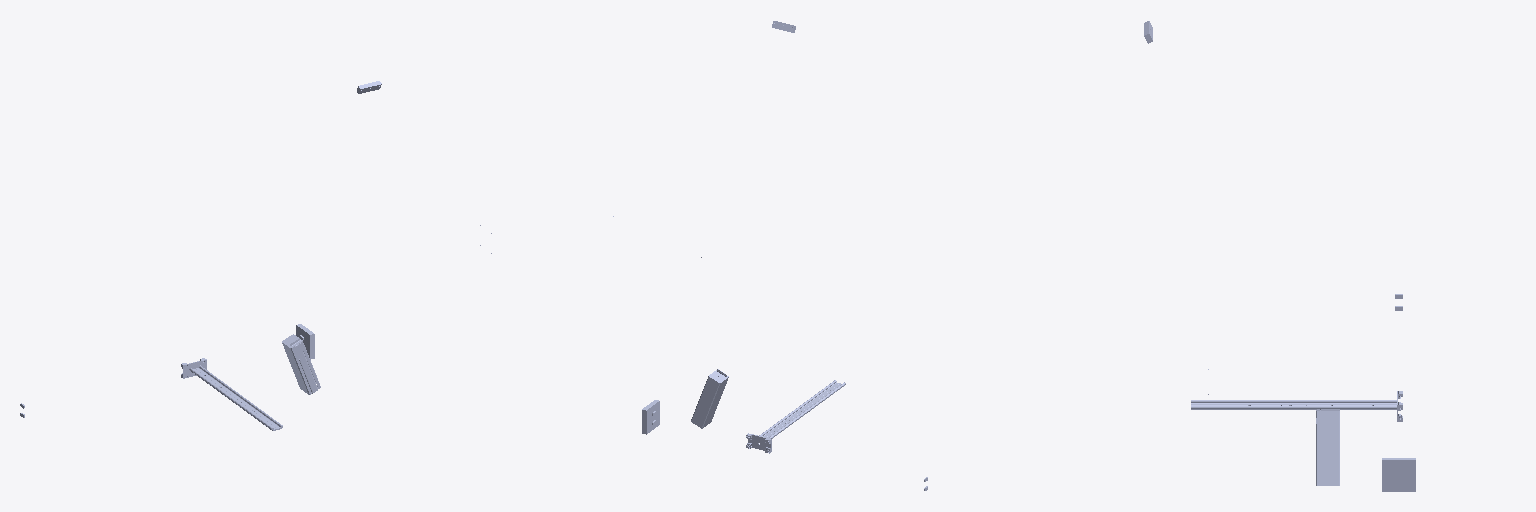
--- Render facts (derived) ---
The picture shows the robot from 3 angles, left to right: view 1: azimuth 30°, elevation 25°; view 2: azimuth 150°, elevation 25°; view 3: azimuth 270°, elevation 25°; orthographic projection.
Model robo_description with 21 links and 20 joints (2 revolute, 2 prismatic, 16 fixed), rooted at base_link, posed joints at zero except 1 at the middle of their limits (joint5 = 0.4665).
Links seen in each view (by area): view 1: link2, link5; view 2: link2, link5, base_link; view 3: link2, link5, base_link.
Boxes of the visible links, x1,y1,x2,y2 form: link2: (181, 358, 282, 430); link5: (282, 334, 320, 394); link2: (746, 380, 845, 453); link5: (691, 369, 728, 428); base_link: (642, 400, 927, 490); link2: (1191, 391, 1402, 421); link5: (1316, 409, 1339, 485); base_link: (1382, 294, 1415, 491).
Bounding box of the posed robot: 1.65 × 0.7954 × 1.46 m (x, y, z).
Meshes: 6 distinct files referenced, 4 mesh visuals loaded (4 binary STL); not drawn: 2 (reference not matched to a file when rendering).

The robot description file, URDF, robot "robo_description":
<?xml version="1.0" encoding="utf-8"?>
<!-- 25AUG2023 Changed the minimum limit of lJoint5 to 0.247 and max to 0.686 -->
<!-- This URDF was automatically created by SolidWorks to URDF Exporter! Originally created by Stephen Brawner ([email redacted]) 
     Commit Version: 1.6.0-4-g7f85cfe  Build Version: 1.6.7995.38578
     For more information, please see http://wiki.ros.org/sw_urdf_exporter -->
<robot
  name="robo_description">
  <link
    name="base_link">
    <inertial>
      <origin
        xyz="-5.13826234849775E-17 -1.63904738952765E-17 0.339473684210526"
        rpy="0 0 0" />
      <mass
        value="19" />
      <inertia
        ixx="2.34956140350877"
        ixy="1.11311423041845E-17"
        ixz="3.69215798456927E-16"
        iyy="2.34956140350877"
        iyz="-7.44985984223617E-17"
        izz="0.151666666666667" />
    </inertial>
    <visual>
      <origin
        xyz="0 0 0"
        rpy="0 0 0" />
      <geometry>
        <mesh
          filename="package://robo_description/meshes/base_link.STL" />
      </geometry>
      <material
        name="">
        <color
          rgba="0.792156862745098 0.819607843137255 0.933333333333333 1" />
      </material>
    </visual>
    <collision>
      <origin
        xyz="0 0 0"
        rpy="0 0 0" />
      <geometry>
        <mesh
          filename="package://robo_description/meshes/base_link.STL" />
      </geometry>
    </collision>
  </link>
  <link
    name="link2">
    <inertial>
      <origin
        xyz="-0.001261 -0.2858 0.14572"
        rpy="0 0 0" />
      <mass
        value="3.13280329013611" />
      <inertia
        ixx="0.0169430024052603"
        ixy="-0.00280446630124331"
        ixz="0.0223183329111622"
        iyy="0.162057682822749"
        iyz="0.000505061238040558"
        izz="0.161640952999751" />
    </inertial>
    <visual>
      <origin
        xyz="0 0 -1"
        rpy="0 0 0" />
      <geometry>
        <mesh
          filename="package://robo_description/meshes/link2.STL" />
      </geometry>
      <material
        name="">
        <color
          rgba="0.792156862745098 0.819607843137255 0.933333333333333 1" />
      </material>
    </visual>
    <collision>
      <origin
        xyz="0 0 0"
        rpy="0 0 0" />
      <geometry>
        <mesh
          filename="package://robo_description/meshes/link2.STL" />
      </geometry>
    </collision>
  </link>
  <joint
    name="joint2"
    type="prismatic">
    <origin
      xyz="0.0 0 1"
      rpy="0 0 0" />
    <parent
      link="base_link" />
    <child
      link="link2" />
    <axis
      xyz="0 0 1" />
    <limit
      lower="0"
      upper="1"
      effort="0"
      velocity="0" />
  </joint>
  <link
    name="link4">
    <inertial>
      <origin
        xyz="-0.000438554587764983 0.0620490502692163 -0.172885898172371"
        rpy="0 0 0" />
      <mass
        value="0.162146723185788" />
      <inertia
        ixx="0.00336616371871891"
        ixy="1.46811284877534E-06"
        ixz="-3.57096843523024E-06"
        iyy="0.00312866852492012"
        iyz="0.00048231220150353"
        izz="0.000338308018448651" />
    </inertial>
    <visual>
      <origin
        xyz="-0.4665 0 -0.790"
        rpy="0 0 0" />
      <geometry>
        <mesh
          filename="package://robo_description/meshes/link4.STL" />
      </geometry>
      <material
        name="">
        <color
          rgba="0.792156862745098 0.819607843137255 0.933333333333333 1" />
      </material>
    </visual>
    <collision>
      <origin
        xyz="0 0 0"
        rpy="0 0 0" />
      <geometry>
        <mesh
          filename="package://robo_description/meshes/link4.STL" />
      </geometry>
    </collision>
  </link>
  <joint
    name="joint4"
    type="revolute">
    <origin
      xyz="0.46904 0 -0.21"
      rpy="0 0 0" />
    <parent
      link="link2" />
    <child
      link="link4" />
    <axis
      xyz="0 0 1" />
    <limit
      lower="-2.9671"
      upper="2.9671"
      effort="0"
      velocity="0" />
  </joint>
  <link
    name="link3">
    <inertial>
      <origin
        xyz="-0.0832189655707039 -0.0894795892974461 -0.00179630042130147"
        rpy="0 0 0" />
      <mass
        value="1.71811977068641" />
      <inertia
        ixx="0.00948440583507882"
        ixy="-0.00159429497921182"
        ixz="0.00308193362516688"
        iyy="0.035537875179704"
        iyz="0.000648421421055908"
        izz="0.0305779645247813" />
    </inertial>
    <visual>
      <origin
        xyz="-0.468545 -0.078 -0.43528"
        rpy="0 0 0" />
      <geometry>
        <mesh
          filename="package://robo_description/meshes/link3.STL" />
      </geometry>
      <material
        name="">
        <color
          rgba="0.792156862745098 0.819607843137255 0.933333333333333 1" />
      </material>
    </visual>
    <collision>
      <origin
        xyz="0 0 0"
        rpy="0 0 0" />
      <geometry>
        <mesh
          filename="package://robo_description/meshes/link3.STL" />
      </geometry>
    </collision>
  </link>
  <joint
    name="joint3"
    type="revolute">
    <origin
      xyz="0.0 0.077824 -0.35472"
      rpy="0 0 0" />
    <parent
      link="link4" />
    <child
      link="link3" />
    <axis
      xyz="0 1 0" />
    <limit
      lower="-1.5708"
      upper="1.5708"
      effort="0"
      velocity="0" />
  </joint>
  <link
    name="yanthra_link">
    <inertial>
      <origin
        xyz="-0.0832189655707036 -0.0114795892974462 -0.00179630042130124"
        rpy="0 0 0" />
      <mass
        value="1.71811977068641" />
      <inertia
        ixx="0.00948440583507882"
        ixy="-0.00159429497921182"
        ixz="0.0030819336251669"
        iyy="0.035537875179704"
        iyz="0.000648421421055907"
        izz="0.0305779645247813" />
    </inertial>
    <visual>
      <origin
        xyz="0 0 0"
        rpy="0 0 0" />
      <geometry>
        <box size="0.001 0.001 0.001"/>
      </geometry>
      <material
        name="">
        <color
          rgba="0.792156862745098 0.819607843137255 0.933333333333333 1" />
      </material>
    </visual>
    <collision>
      <origin
        xyz="0 0 0"
        rpy="0 0 0" />
      <geometry>
        <box size="0.001 0.001 0.001"/>
      </geometry>
    </collision>
  </link>
  <joint
    name="yanthra_joint"
    type="fixed">
    <origin
      xyz="0 -0.078 0"
      rpy="0 0 0" />
    <parent
      link="link3" />
    <child
      link="yanthra_link" />
    <axis
      xyz="0 0 0" />
  </joint>
  <link
    name="link5_origin">
    <inertial>
      <origin
        xyz="-0.00874999999999998 0.0375 -0.00507843424240889"
        rpy="0 0 0" />
      <mass
        value="0.0438088883035136" />
      <inertia
        ixx="3.24913884800222E-05"
        ixy="1.33063310958086E-21"
        ixz="-8.470329472543E-22"
        iyy="3.99574478810853E-06"
        iyz="-3.38875204913906E-21"
        izz="3.07317223657389E-05" />
    </inertial>
    <visual>
      <origin
        xyz="0 0 0"
        rpy="0 0 0" />
      <geometry>
        <box size="0.001 0.001 0.001"/>
      </geometry>
      <material
        name="">
        <color
          rgba="0.792156862745098 0.819607843137255 0.933333333333333 1" />
      </material>
    </visual>
    <collision>
      <origin
        xyz="0 0 0"
        rpy="0 0 0" />
      <geometry>
        <box size="0.001 0.001 0.001"/>
      </geometry>
    </collision>
  </link>
  <joint
    name="link5_origin_joint"
    type="fixed">
    <origin
      xyz="0 0 0.0"
      rpy="0 0 0" />
    <parent	
      link="yanthra_link" />
    <child
      link="link5_origin" />
    <axis
      xyz="0 0 0" />
  </joint>
  <link
    name="link5">
    <inertial>
      <origin
        xyz="0.108132413871145 2.08242781028485E-06 0.00569147154470495"
        rpy="0 0 0" />
      <mass
        value="0.277404400359573" />
      <inertia
        ixx="0.00021628976171093"
        ixy="1.27900715148446E-06"
        ixz="-0.000135093187106687"
        iyy="0.00359200319167061"
        iyz="-8.36237914028336E-08"
        izz="0.00358633509004247" />
    </inertial>
    <visual>
      <origin
        xyz="-0.715545 0 -0.43528"
        rpy="0 0 0" />
      <geometry>
        <mesh
          filename="package://robo_description/meshes/link5.STL" />
      </geometry>
      <material
        name="">
        <color
          rgba="0.792156862745098 0.819607843137255 0.933333333333333 1" />
      </material>
    </visual>
    <collision>
      <origin
        xyz="0 0 0"
        rpy="0 0 0" />
      <geometry>
        <mesh
          filename="package://robo_description/meshes/link5.STL" />
      </geometry>
    </collision>
  </link>
  <joint
    name="joint5"
    type="prismatic">
    <origin
      xyz="0.0 0 0"
      rpy="0 0 0" />
    <parent
      link="link5_origin" />
    <child
      link="link5" />
    <axis
      xyz="1 0 0" />
    <limit
      lower="0.247"
      upper="0.686"
      effort="0"
      velocity="0" />
  </joint>
  <link
    name="ee_link">
    <inertial>
      <origin
        xyz="-0.00874999999999998 0.0375 -0.00507843424240889"
        rpy="0 0 0" />
      <mass
        value="0.0438088883035136" />
      <inertia
        ixx="3.24913884800222E-05"
        ixy="1.33063310958086E-21"
        ixz="-8.470329472543E-22"
        iyy="3.99574478810853E-06"
        iyz="-3.38875204913906E-21"
        izz="3.07317223657389E-05" />
    </inertial>
    <visual>
      <origin
        xyz="0 0 0"
        rpy="0 0 0" />
      <geometry>
        <box size="0.001 0.001 0.001"/>
      </geometry>
      <material
        name="">
        <color
          rgba="0.792156862745098 0.819607843137255 0.933333333333333 1" />
      </material>
    </visual>
    <collision>
      <origin
        xyz="0 0 0"
        rpy="0 0 0" />
      <geometry>
        <box size="0.001 0.001 0.001"/>
      </geometry>
    </collision>
  </link>
  <joint
    name="ee_joint"
    type="fixed">
    <origin
      xyz="-0.085 0 0"
      rpy="0 0 0" />
    <parent	
      link="link5" />
    <child
      link="ee_link" />
    <axis
      xyz="0 0 0" />
  </joint>
  <link
    name="aruco_marker_link">
    <inertial>
      <origin
        xyz="-0.00874999999999998 0.0375 -0.00507843424240889"
        rpy="0 0 0" />
      <mass
        value="0.0438088883035136" />
      <inertia
        ixx="3.24913884800222E-05"
        ixy="1.33063310958086E-21"
        ixz="-8.470329472543E-22"
        iyy="3.99574478810853E-06"
        iyz="-3.38875204913906E-21"
        izz="3.07317223657389E-05" />
    </inertial>
    <visual>
      <origin
        xyz="0 0 0"
        rpy="0 0 0" />
      <geometry>
        <box size="0.001 0.001 0.001"/>
      </geometry>
      <material
        name="">
        <color
          rgba="0.792156862745098 0.819607843137255 0.933333333333333 1" />
      </material>
    </visual>
    <collision>
      <origin
        xyz="0 0 0"
        rpy="0 0 0" />
      <geometry>
        <box size="0.001 0.001 0.001"/>
      </geometry>
    </collision>
  </link>
  <joint
    name="aruco_joint"
    type="fixed">
    <origin
      xyz="0.0 0 0.08"
      rpy="0 0 0" />
    <parent	
      link="ee_link" />
    <child
      link="aruco_marker_link" />
    <axis
      xyz="0 0 0" />
  </joint>
  <link
    name="aruco_link_1">
    <inertial>
      <origin
        xyz="-0.00874999999999998 0.0375 -0.00507843424240889"
        rpy="0 0 0" />
      <mass
        value="0.0438088883035136" />
      <inertia
        ixx="3.24913884800222E-05"
        ixy="1.33063310958086E-21"
        ixz="-8.470329472543E-22"
        iyy="3.99574478810853E-06"
        iyz="-3.38875204913906E-21"
        izz="3.07317223657389E-05" />
    </inertial>
    <visual>
      <origin
        xyz="0 0 0"
        rpy="0 0 0" />
      <geometry>
        <box size="0.001 0.001 0.001"/>
      </geometry>
      <material
        name="">
        <color
          rgba="0.792156862745098 0.819607843137255 0.933333333333333 1" />
      </material>
    </visual>
    <collision>
      <origin
        xyz="0 0 0"
        rpy="0 0 0" />
      <geometry>
        <box size="0.001 0.001 0.001"/>
      </geometry>
    </collision>
  </link>
  <joint
    name="aruco_joint_1"
    type="fixed">
    <origin
      xyz="0.0 0.04 0.04"
      rpy="0 0 0" />
    <parent	
      link="aruco_marker_link" />
    <child
      link="aruco_link_1" />
    <axis
      xyz="0 0 0" />
  </joint>
  <link
    name="aruco_link_2">
    <inertial>
      <origin
        xyz="-0.00874999999999998 0.0375 -0.00507843424240889"
        rpy="0 0 0" />
      <mass
        value="0.0438088883035136" />
      <inertia
        ixx="3.24913884800222E-05"
        ixy="1.33063310958086E-21"
        ixz="-8.470329472543E-22"
        iyy="3.99574478810853E-06"
        iyz="-3.38875204913906E-21"
        izz="3.07317223657389E-05" />
    </inertial>
    <visual>
      <origin
        xyz="0 0 0"
        rpy="0 0 0" />
      <geometry>
        <box size="0.001 0.001 0.001"/>
      </geometry>
      <material
        name="">
        <color
          rgba="0.792156862745098 0.819607843137255 0.933333333333333 1" />
      </material>
    </visual>
    <collision>
      <origin
        xyz="0 0 0"
        rpy="0 0 0" />
      <geometry>
        <box size="0.001 0.001 0.001"/>
      </geometry>
    </collision>
  </link>
  <joint
    name="aruco_joint_2"
    type="fixed">
    <origin
      xyz="0.0 -0.04 0.04"
      rpy="0 0 0" />
    <parent	
      link="aruco_marker_link" />
    <child
      link="aruco_link_2" />
    <axis
      xyz="0 0 0" />
  </joint>
  <link
    name="aruco_link_3">
    <inertial>
      <origin
        xyz="-0.00874999999999998 0.0375 -0.00507843424240889"
        rpy="0 0 0" />
      <mass
        value="0.0438088883035136" />
      <inertia
        ixx="3.24913884800222E-05"
        ixy="1.33063310958086E-21"
        ixz="-8.470329472543E-22"
        iyy="3.99574478810853E-06"
        iyz="-3.38875204913906E-21"
        izz="3.07317223657389E-05" />
    </inertial>
    <visual>
      <origin
        xyz="0 0 0"
        rpy="0 0 0" />
      <geometry>
        <box size="0.001 0.001 0.001"/>
      </geometry>
      <material
        name="">
        <color
          rgba="0.792156862745098 0.819607843137255 0.933333333333333 1" />
      </material>
    </visual>
    <collision>
      <origin
        xyz="0 0 0"
        rpy="0 0 0" />
      <geometry>
        <box size="0.001 0.001 0.001"/>
      </geometry>
    </collision>
  </link>
  <joint
    name="aruco_joint_3"
    type="fixed">
    <origin
      xyz="0.0 0.04 -0.04"
      rpy="0 0 0" />
    <parent	
      link="aruco_marker_link" />
    <child
      link="aruco_link_3" />
    <axis
      xyz="0 0 0" />
  </joint>
  <link
    name="aruco_link_4">
    <inertial>
      <origin
        xyz="-0.00874999999999998 0.0375 -0.00507843424240889"
        rpy="0 0 0" />
      <mass
        value="0.0438088883035136" />
      <inertia
        ixx="3.24913884800222E-05"
        ixy="1.33063310958086E-21"
        ixz="-8.470329472543E-22"
        iyy="3.99574478810853E-06"
        iyz="-3.38875204913906E-21"
        izz="3.07317223657389E-05" />
    </inertial>
    <visual>
      <origin
        xyz="0 0 0"
        rpy="0 0 0" />
      <geometry>
        <box size="0.001 0.001 0.001"/>
      </geometry>
      <material
        name="">
        <color
          rgba="0.792156862745098 0.819607843137255 0.933333333333333 1" />
      </material>
    </visual>
    <collision>
      <origin
        xyz="0 0 0"
        rpy="0 0 0" />
      <geometry>
        <box size="0.001 0.001 0.001"/>
      </geometry>
    </collision>
  </link>
  <joint
    name="aruco_joint_4"
    type="fixed">
    <origin
      xyz="0.0 -0.04 -0.04"
      rpy="0 0 0" />
    <parent	
      link="aruco_marker_link" />
    <child
      link="aruco_link_4" />
    <axis
      xyz="0 0 0" />
  </joint>
  <link
    name="link7">
    <inertial>
      <origin
        xyz="-0.00129487747822488 -0.0114795892973884 0.11996423535158"
        rpy="0 0 0" />
      <mass
        value="1.71811977068641" />
      <inertia
        ixx="0.0113386071435481"
        ixy="-0.00171490439294498"
        ixz="-0.00672100859249017"
        iyy="0.0355378751797041"
        iyz="-0.0001460470577602"
        izz="0.0287237632163119" />
    </inertial>
    <visual>
      <origin
        xyz="0 0 0"
        rpy="0 0 0" />
      <geometry>
        <box size="0.001 0.001 0.001"/>
      </geometry>
      <material
        name="">
        <color
          rgba="0.792156862745098 0.819607843137255 0.933333333333333 1" />
      </material>
    </visual>
    <collision>
      <origin
        xyz="0 0 0"
        rpy="0 0 0" />
      <geometry>
        <box size="0.001 0.001 0.001"/>
      </geometry>
    </collision>
  </link>
  <joint
    name="joint7"
    type="fixed">
    <origin
      xyz="0.47229 -0.069971 0.79711"
      rpy="0 0.785398 -1.5708" />
    <parent
      link="base_link"/>
    <child
      link="link7"/>
    <axis
      xyz="0 0 0" />
  </joint>
  <link
    name="camera_mount_link">
    <inertial>
      <origin
        xyz="-0.00129487747822488 -0.0114795892973883 0.11996423535158"
        rpy="0 0 0" />
      <mass
        value="1.71811977068641" />
      <inertia
        ixx="0.0113386071435481"
        ixy="-0.00171490439294498"
        ixz="-0.00672100859249018"
        iyy="0.0355378751797041"
        iyz="-0.000146047057760202"
        izz="0.0287237632163119" />
    </inertial>
    <visual>
      <origin
        xyz="0 0 0"
        rpy="0 0 0" />
      <geometry>
        <box size="0.001 0.001 0.001"/>
      </geometry>
      <material
        name="">
        <color
          rgba="0.792156862745098 0.819607843137255 0.933333333333333 1" />
      </material>
    </visual>
    <collision>
      <origin
        xyz="0 0 0"
        rpy="0 0 0" />
      <geometry>
        <box size="0.001 0.001 0.001"/>
      </geometry>
    </collision>
  </link>
     <!--Realsense Camera depth is 20 mm from back to glass, But the depth start point(GROUND ZERO REFERENCE i.e depth is Zero) is 1.1 mm behind glass-->
     <!--Camera thickness-Zero Ref +Plate thick=20-1.1+2 = 20.09 mm -->
     <!-- xyz="0.0209 -0.0375 0"-->
  <joint
    name="camera_mount_joint"
    type="fixed">
    <origin
      xyz="0.02090 -0.0375 0"
      rpy="-1.5708 0 -1.5708" />
    <parent
      link="link7" />
    <child
      link="camera_mount_link" />
    <axis
      xyz="0 0 0" />
  </joint>
  <link
    name="virtual_cam_link">
    <inertial>
      <origin
        xyz="-0.00874999999999998 0.0375 -0.00507843424240889"
        rpy="0 0 0" />
      <mass
        value="0.0438088883035136" />
      <inertia
        ixx="3.24913884800222E-05"
        ixy="1.33063310958086E-21"
        ixz="-8.470329472543E-22"
        iyy="3.99574478810853E-06"
        iyz="-3.38875204913906E-21"
        izz="3.07317223657389E-05" />
    </inertial>
    <visual>
      <origin
        xyz="0 0 0"
        rpy="0 0 0" />
      <geometry>
        <box size="0.001 0.001 0.001"/>
      </geometry>
      <material
        name="">
        <color
          rgba="0.792156862745098 0.819607843137255 0.933333333333333 1" />
      </material>
    </visual>
    <collision>
      <origin
        xyz="0 0 0"
        rpy="0 0 0" />
      <geometry>
        <box size="0.001 0.001 0.001"/>
      </geometry>
    </collision>
  </link>
  <joint
    name="virtual_cam_link_joint"
    type="fixed">
    <origin
      xyz="0 0 0"
      rpy="0 0 0" />
    <parent	
      link="camera_mount_link" />
    <child
      link="virtual_cam_link" />
    <axis
      xyz="0 0 0" />
  </joint>

  <link
    name="camera_link">
    <inertial>
      <origin
        xyz="-0.00874999999999998 0.0375 -0.00507843424240889"
        rpy="0 0 0" />
      <mass
        value="0.0438088883035136" />
      <inertia
        ixx="3.24913884800222E-05"
        ixy="1.33063310958086E-21"
        ixz="-8.470329472543E-22"
        iyy="3.99574478810853E-06"
        iyz="-3.38875204913906E-21"
        izz="3.07317223657389E-05" />
    </inertial>
    <visual>
      <origin
        xyz="-0.03768 -0.425 -0.175"
        rpy="0 -2.04 -1.5708" />
      <geometry>
        <mesh
          filename="package://robo_description/meshes/camera_link.STL" />
      </geometry>
      <material
        name="">
        <color
          rgba="0.792156862745098 0.819607843137255 0.933333333333333 1" />
      </material>
    </visual>
    <collision>
      <origin
        xyz="0 0 0"
        rpy="0 0 0" />
      <geometry>
        <mesh
          filename="package://robo_description/meshes/camera_link.STL" />
      </geometry>
    </collision>
  </link>
     <!-- xyz="0.435 -0.085 0.782"
      rpy="-2.356 0 3.142" /-->
  <joint
    name="camera_link_joint"
    type="fixed">
    <origin
      xyz="0.435 -0.085 0.782"
      rpy="-2.356 0 3.142" />
    <parent
      link="base_link" />
    <child
      link="camera_link" />
    <axis
      xyz="0 0 0" />
  </joint>

  <link name="camera_depth_frame">

    <visual>

    <origin xyz="0 0 0" rpy="0 0 0" />

      <geometry>

        <box size="0.001 0.001 0.001"/>

      </geometry>

    </visual>

  </link>

  <joint name="camera_depth_frame_joint" type="fixed">

    <origin rpy="0 0 0" xyz="0 0 0"/>

    <parent link="camera_link"/>

    <child link="camera_depth_frame"/>

  </joint>

  <link name="camera_depth_optical_frame">

    <visual>

    <origin xyz="0 0 0" rpy="0 0 0" />

      <geometry>

        <box size="0.001 0.001 0.001"/>

      </geometry>

    </visual>

  </link>

  <joint name="camera_depth_optical_frame_joint" type="fixed">

   <origin rpy="0 0 0" xyz="0 0 0"/>

   <parent link="camera_depth_frame"/>

   <child link="camera_depth_optical_frame"/>

  </joint>

  <link name="camera_color_frame">

    <visual>

    <origin xyz="0 0 0" rpy="0 0 0" />

      <geometry>

        <box size="0.001 0.001 0.001"/>

      </geometry>

    </visual>

  </link>

  <joint name="camera_color_frame_joint" type="fixed">

    <origin rpy="0 0 0" xyz="0 0 0"/>

    <parent link="camera_link"/>

    <child link="camera_color_frame"/>

  </joint>

  <link name="camera_color_optical_frame">

    <visual>

    <origin xyz="0 0 0" rpy="0 0 0" />

      <geometry>

        <box size="0.001 0.001 0.001"/>

      </geometry>

    </visual>

  </link>

  <joint name="camera_color_optical_frame_joint" type="fixed">

   <origin rpy="0 0 0" xyz="0 0 0"/>

   <parent link="camera_color_frame"/>

   <child link="camera_color_optical_frame"/>

  </joint>
  <gazebo reference="stand">

    <material>Gazebo/Grey</material>

  </gazebo>

  <gazebo reference="link3">

    <material>Gazebo/Green</material>

  </gazebo>

  <gazebo reference="link4">

    <material>Gazebo/Red</material>

  </gazebo>

  <gazebo reference="link5">

    <material>Gazebo/Green</material>

  </gazebo>

  <gazebo reference="link9">

    <material>Gazebo/Red</material>

  </gazebo>

  <gazebo reference="link6">

    <material>Gazebo/White</material>

  </gazebo>

  <transmission name="tran1">

    <type>transmission_interface/SimpleTransmission</type>

    <joint name="joint3">

      <hardwareInterface>hardware_interface/PositionJointInterface</hardwareInterface>

    </joint>

    <actuator name="motor1">

      <hardwareInterface>hardware_interface/PositionJointInterface</hardwareInterface>

      <mechanicalReduction>1</mechanicalReduction>

    </actuator>

  </transmission>

  <transmission name="tran1">

    <type>transmission_interface/SimpleTransmission</type>

    <joint name="joint4">

      <hardwareInterface>hardware_interface/PositionJointInterface</hardwareInterface>

    </joint>

    <actuator name="motor1">

      <hardwareInterface>hardware_interface/PositionJointInterface</hardwareInterface>

      <mechanicalReduction>1</mechanicalReduction>

    </actuator>

  </transmission>

  <transmission name="tran1">

    <type>transmission_interface/SimpleTransmission</type>

    <joint name="joint5">

      <hardwareInterface>hardware_interface/PositionJointInterface</hardwareInterface>

    </joint>

    <actuator name="motor1">

      <hardwareInterface>hardware_interface/PositionJointInterface</hardwareInterface>

      <mechanicalReduction>1</mechanicalReduction>

    </actuator>

  </transmission>

  <gazebo>

    <plugin filename="libgazebo_ros_control.so" name="gazebo_ros_control">

      <robotNameSpace>/arm_controller</robotNameSpace>

    </plugin>

  </gazebo>

</robot>
